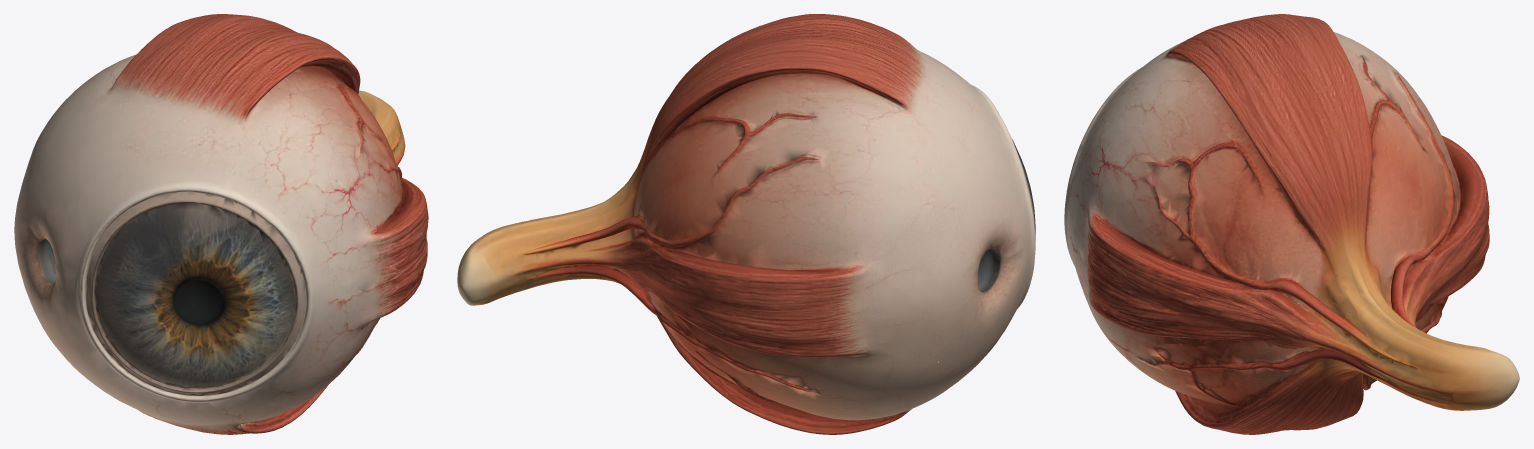
The model's file is eyeball.glb.
3 views of the same model, side by side, from view 1: azimuth 30°, elevation 25°; view 2: azimuth 150°, elevation 25°; view 3: azimuth 270°, elevation 25° (orthographic).
Parts seen in each view (by area): view 1: tripo_node_ebf243bf-d3b6-4331-9960-3b03130a2b84; view 2: tripo_node_ebf243bf-d3b6-4331-9960-3b03130a2b84; view 3: tripo_node_ebf243bf-d3b6-4331-9960-3b03130a2b84.
Part boxes in pixels (bbox=[...]): tripo_node_ebf243bf-d3b6-4331-9960-3b03130a2b84: bbox=[14, 14, 428, 434]; tripo_node_ebf243bf-d3b6-4331-9960-3b03130a2b84: bbox=[457, 14, 1035, 434]; tripo_node_ebf243bf-d3b6-4331-9960-3b03130a2b84: bbox=[1064, 14, 1519, 434].
Size of the model in its own units: 0.9793 by 0.8041 by 0.8529.
1 material, 1 textured.
